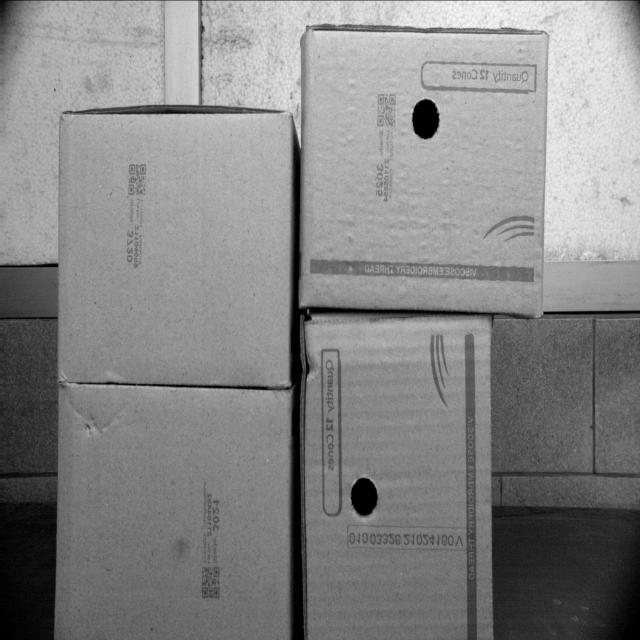cardboxes: (298, 23, 554, 318), (57, 115, 288, 388), (53, 383, 294, 639), (304, 319, 490, 639)
